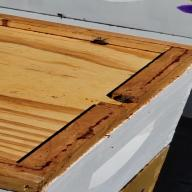Bee: (88, 32, 115, 50)
